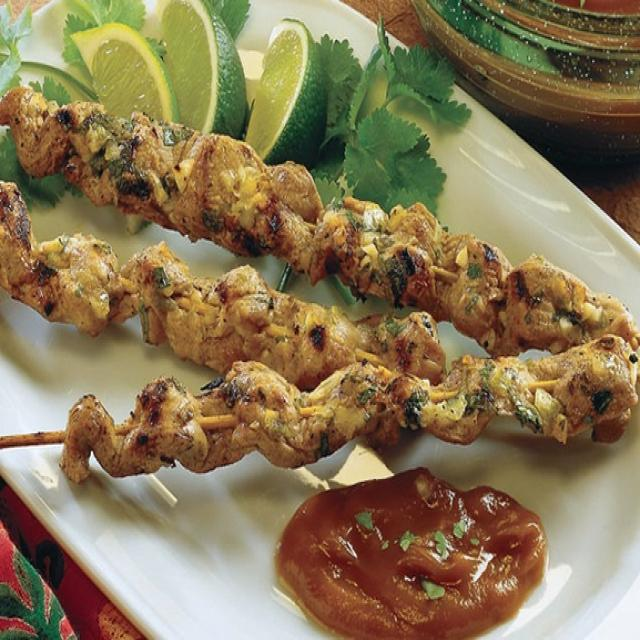牛肉菜式: (3, 66, 636, 512)
